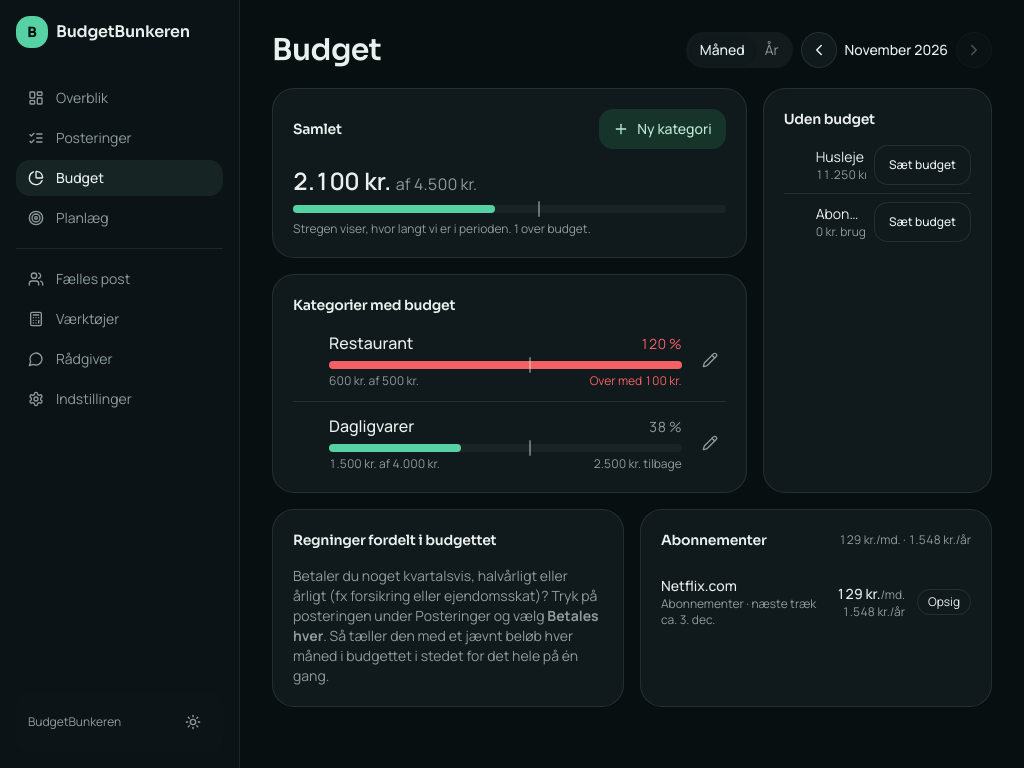
Test: Ny app – det, der før kun var i den klassiske › Budget: abonnementer kan markeres til opsigelse
Click the button "Opsig": (944, 602) [917,589,971,615]
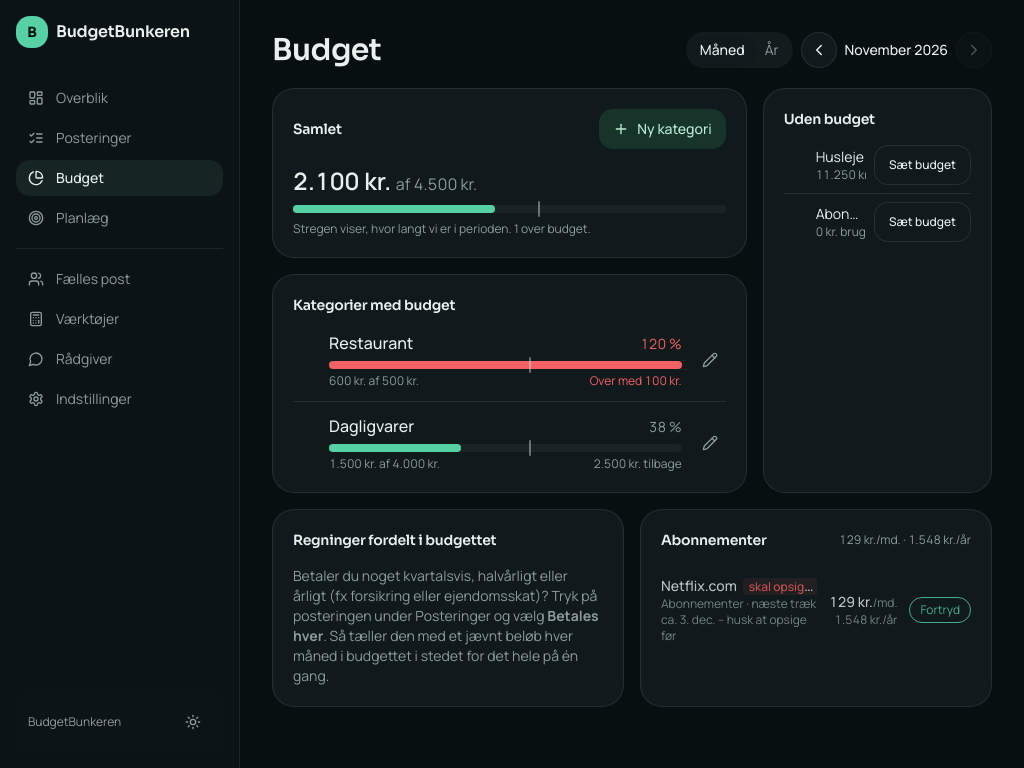
Check: the text "skal opsiges" is shown, box [743,578,817,595]
